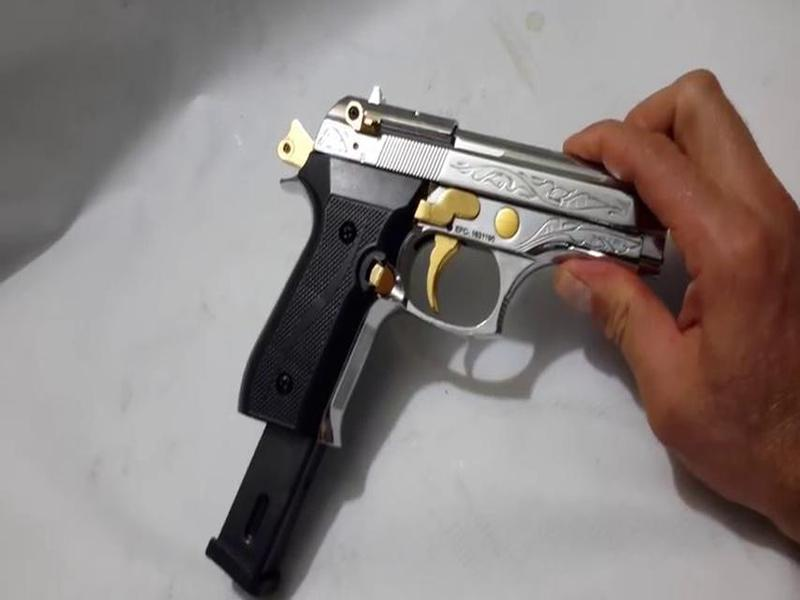Pistola: (224, 86, 731, 434)
